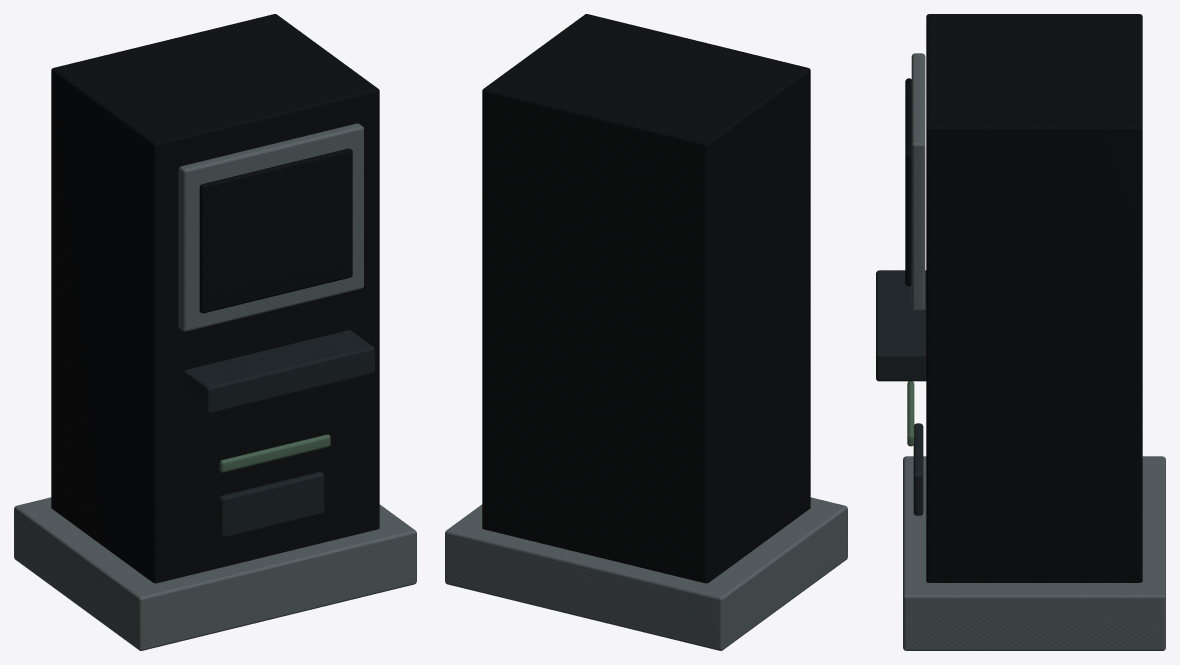
The model's file is ArchiveTerminal.fbx.
3 renders of one model, left to right at view 1: azimuth 30°, elevation 25°; view 2: azimuth 150°, elevation 25°; view 3: azimuth 270°, elevation 25°, orthographic. The views are drawn at different scales.
Visible parts, largest first — view 1: ArchiveTerminal_Mesh; view 2: ArchiveTerminal_Mesh; view 3: ArchiveTerminal_Mesh.
Part boxes in pixels (box(x1,y1,x2,y2)): ArchiveTerminal_Mesh: box(14, 14, 416, 650); ArchiveTerminal_Mesh: box(445, 14, 847, 650); ArchiveTerminal_Mesh: box(876, 14, 1165, 650).
Size of the model in its own units: 86 by 146 by 75.
4 materials, 4 textured.
